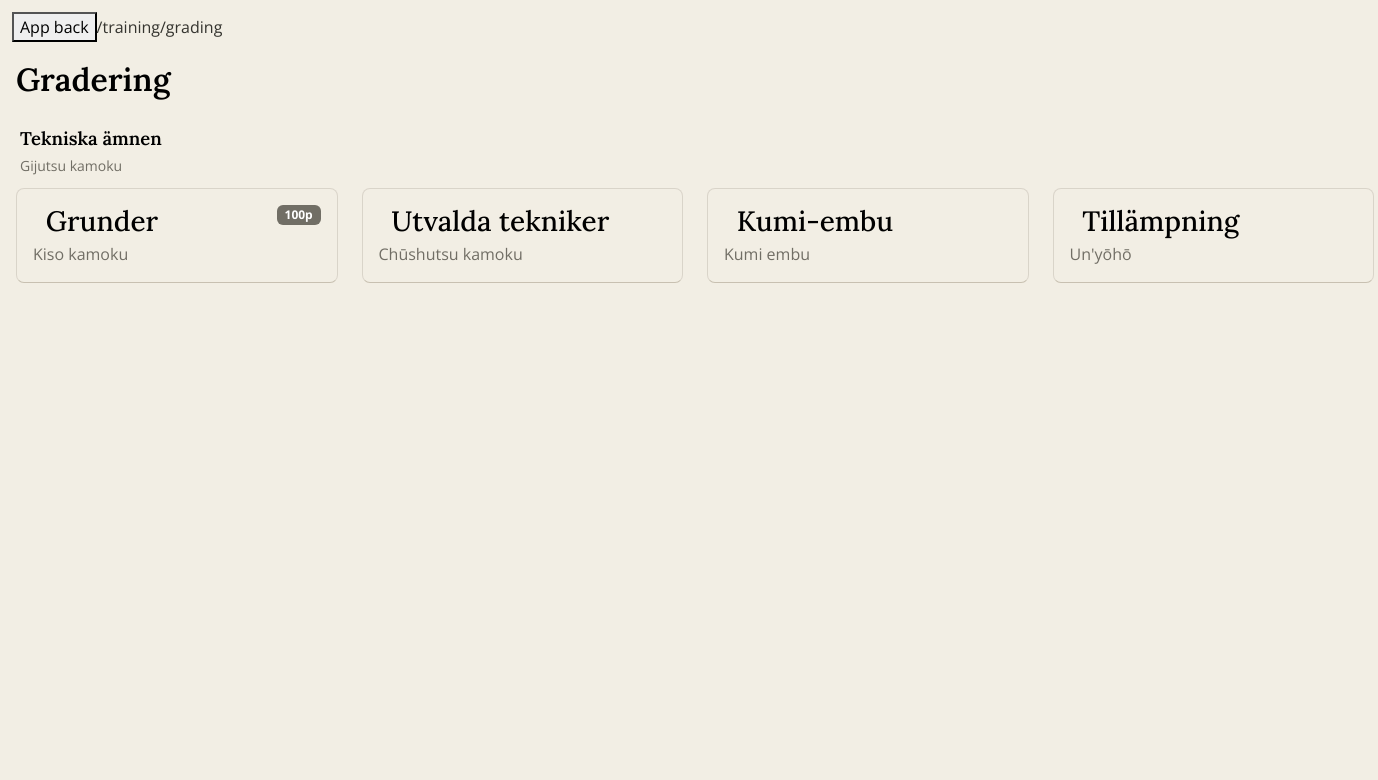
Scenario: GradingTest subject split › saves each fundamentals completion and updates the heading progress
The image size is (1378, 780).
Click the button "Grunder 100p Kiso kamoku" at (102, 221), box left=16, top=188, right=338, bottom=283
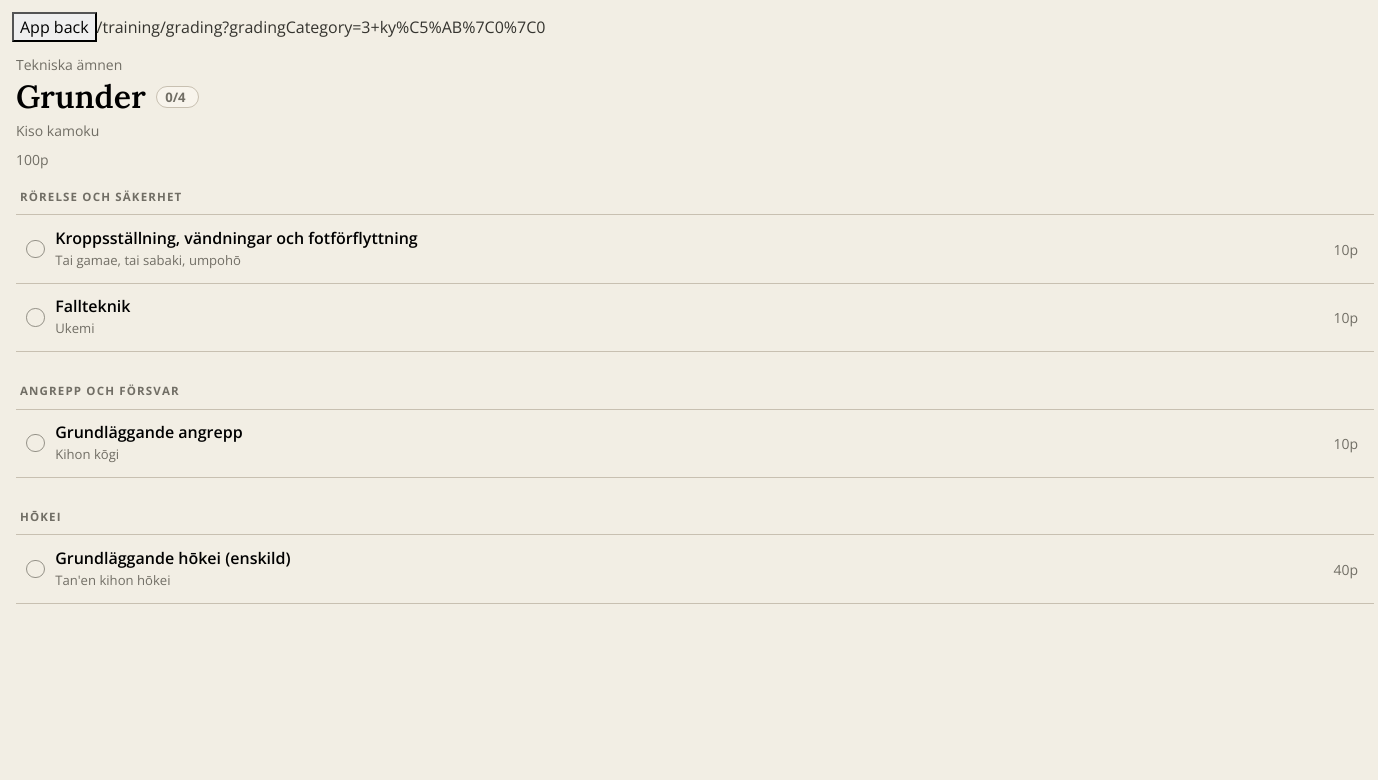
Expected: the element named "0 av 4 delar klarmarkerade" is shown, left=156, top=86, right=199, bottom=108
Click the checkbox named "Klarmarkera Kroppsställning, vändningar och fotförflyttning" at (36, 249), box left=26, top=240, right=45, bottom=258
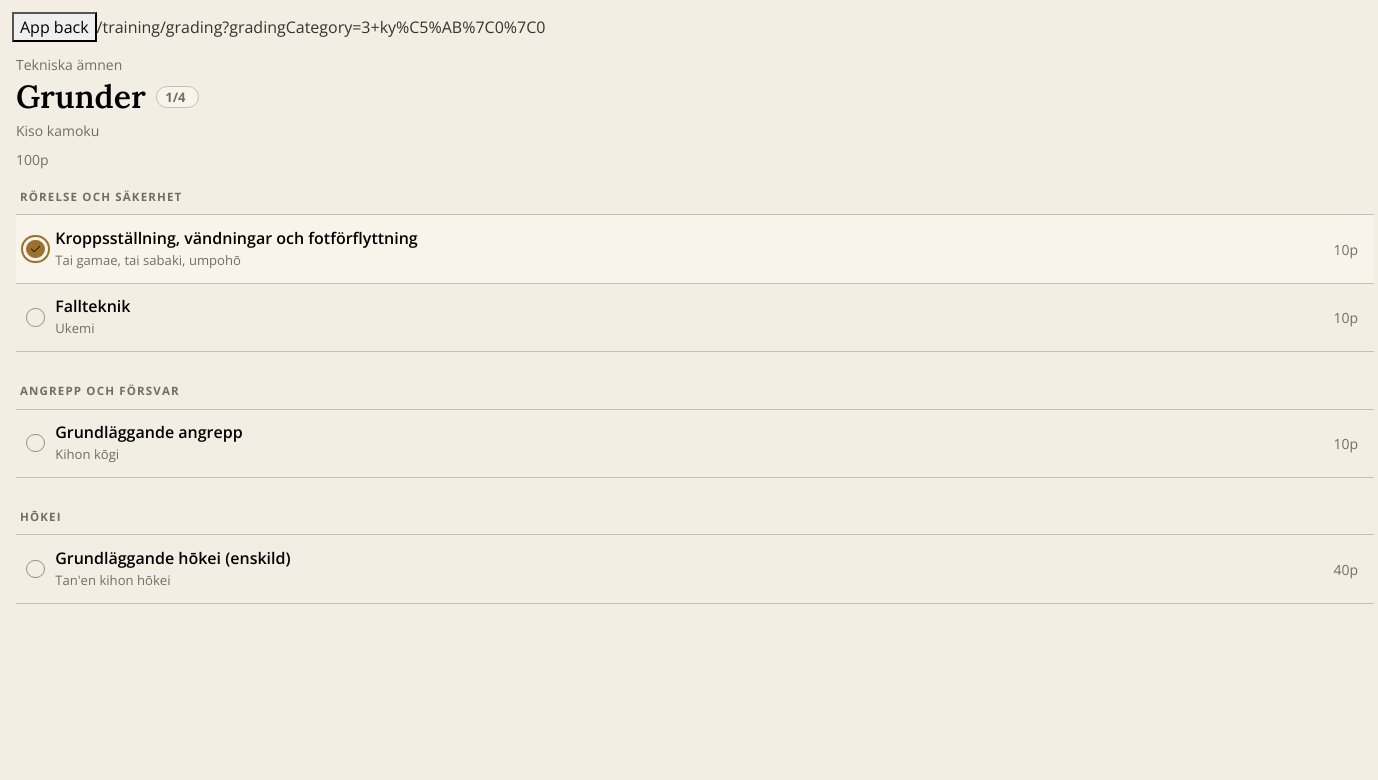
Expected: the checkbox named "Klarmarkera Kroppsställning, vändningar och fotförflyttning" is checked
Expected: the element named "1 av 4 delar klarmarkerade" is shown, left=156, top=86, right=199, bottom=108
Click the checkbox named "Klarmarkera Kroppsställning, vändningar och fotförflyttning" at (36, 249), box left=26, top=240, right=45, bottom=258
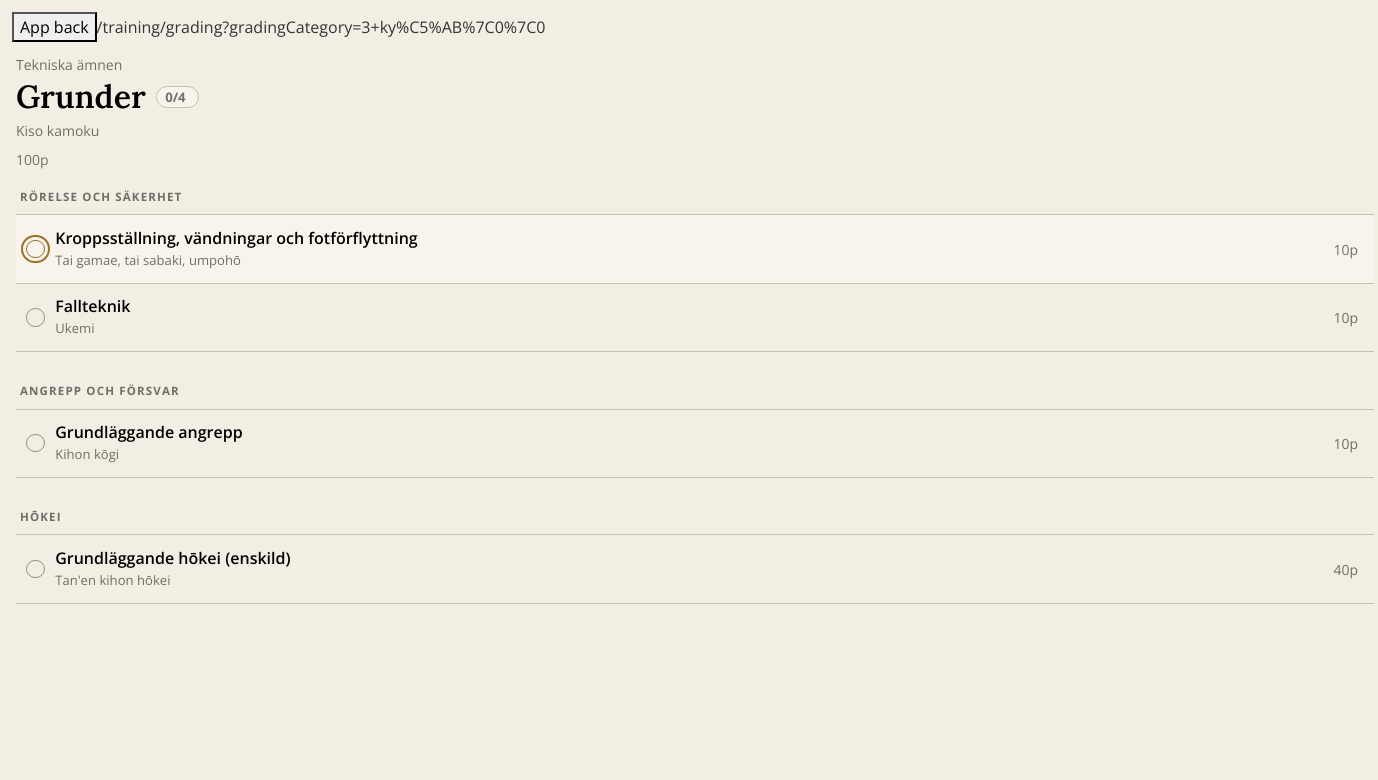
Expected: the checkbox named "Klarmarkera Kroppsställning, vändningar och fotförflyttning" is not checked, left=26, top=240, right=45, bottom=258
Expected: the element named "0 av 4 delar klarmarkerade" is shown, left=156, top=86, right=199, bottom=108
